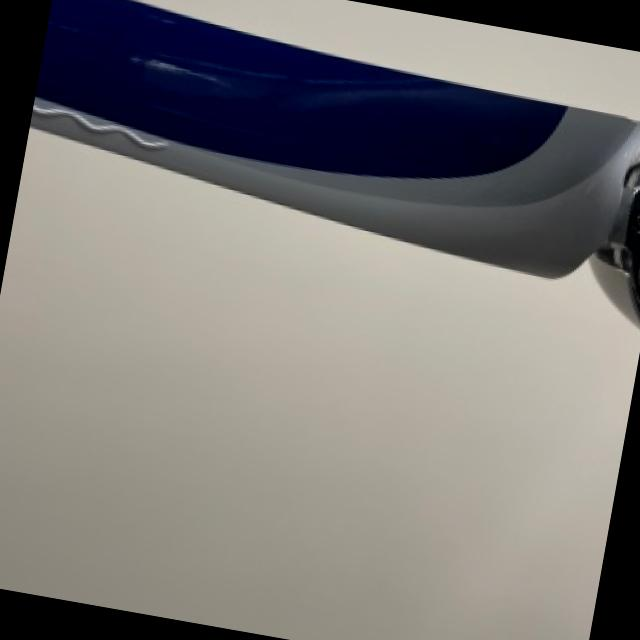healthy: (20, 126, 607, 308)
